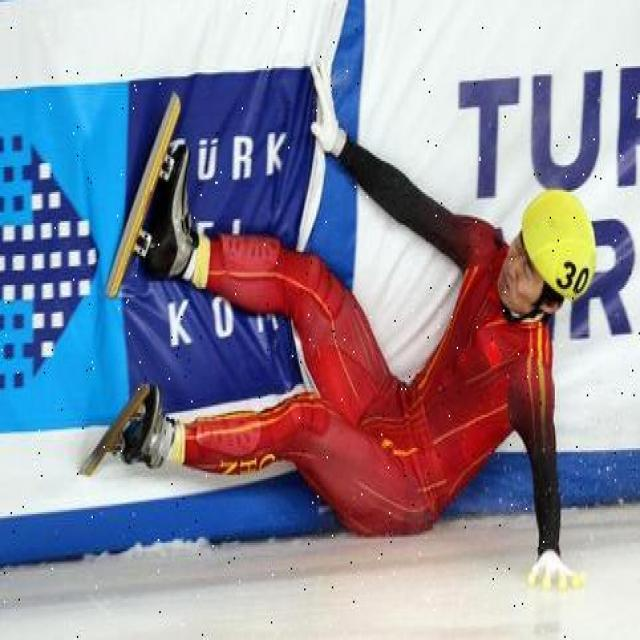fall: (129, 146, 591, 560)
